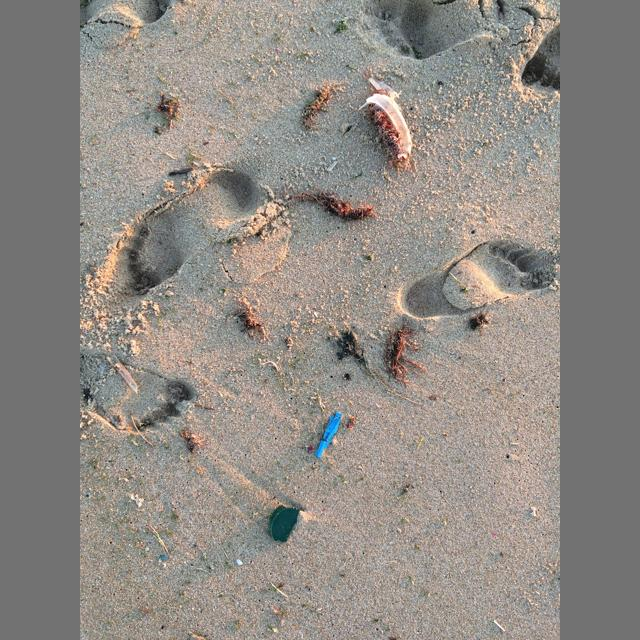litter: (358, 78, 413, 159), (315, 412, 342, 458), (269, 505, 300, 542)
